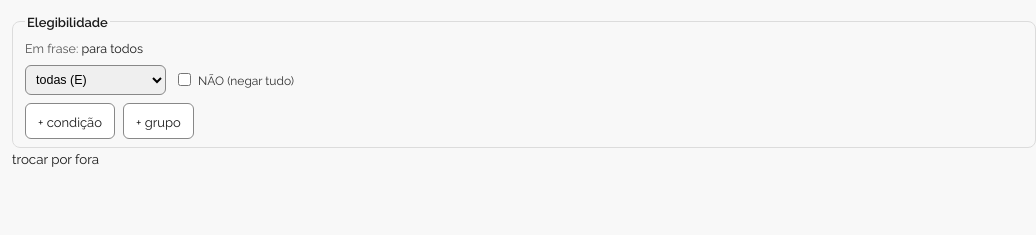
ConditionBuilder › vazio diz 'para todos'; idade a partir de 60 vira a árvore e a frase
The width and height of the screenshot is (1036, 235).
Expected: the text "para todos" is shown, [81, 39, 143, 56]
Click the button "+ condição": (70, 121) [25, 103, 115, 139]
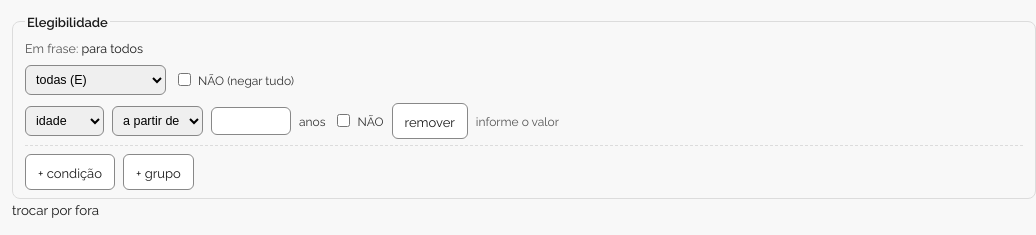
In the number field named "valor": (251, 121) [211, 107, 291, 135], type "60"
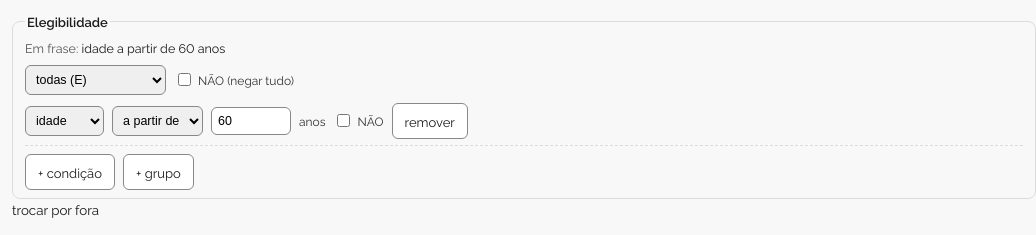
Expected: the text "idade a partir de 60 anos" is shown, [81, 39, 225, 56]
